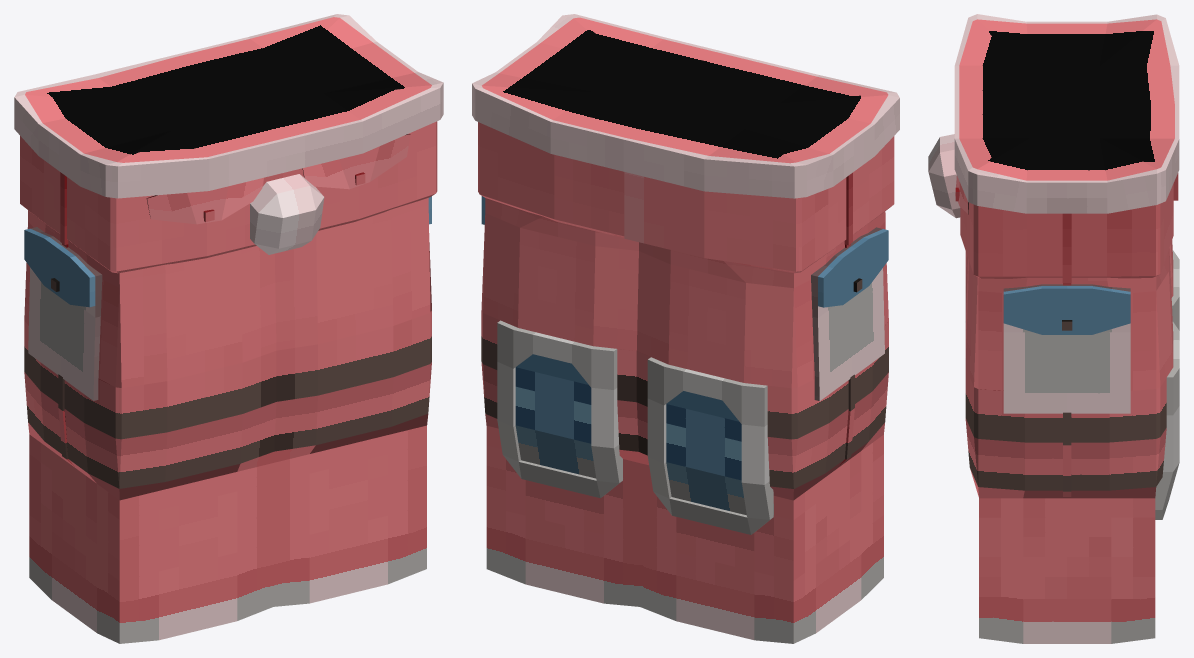
Rendered from pants_tough_bunny.glb.
The picture shows the model from 3 angles, left to right: view 1: azimuth 30°, elevation 25°; view 2: azimuth 150°, elevation 25°; view 3: azimuth 270°, elevation 25°; orthographic projection. The views are drawn at different scales.
Visible parts, largest first — view 1: left_leg, body, right_leg; view 2: left_leg, body, right_leg; view 3: right_leg, body, left_leg.
Part boxes in pixels (x1,y1,x2,y2): left_leg: (24,210,277,643); body: (14,14,443,273); right_leg: (270,196,431,607); left_leg: (636,211,888,643); body: (472,14,899,273); right_leg: (481,196,642,607); right_leg: (965,248,1179,643); body: (928,14,1179,282); left_leg: (965,240,1179,330).
Bounding box in the file's own units: 0.5791 × 0.7757 × 0.3703.
1 material, 1 textured.
